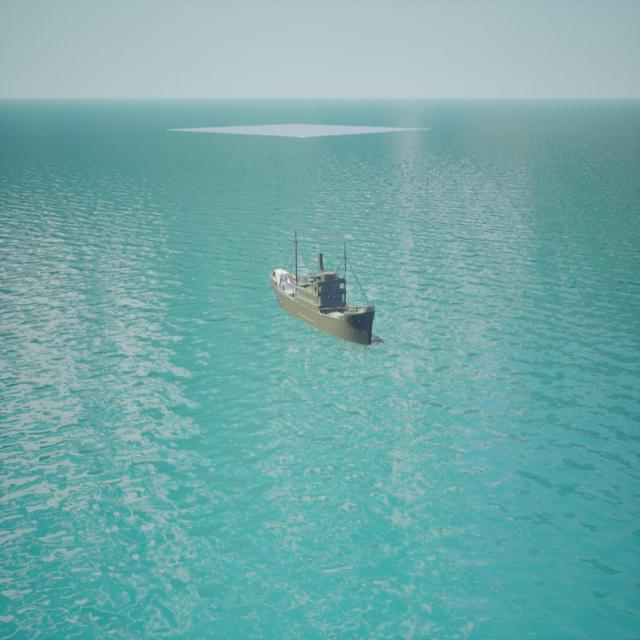fishing ship: (271, 236, 379, 351)
